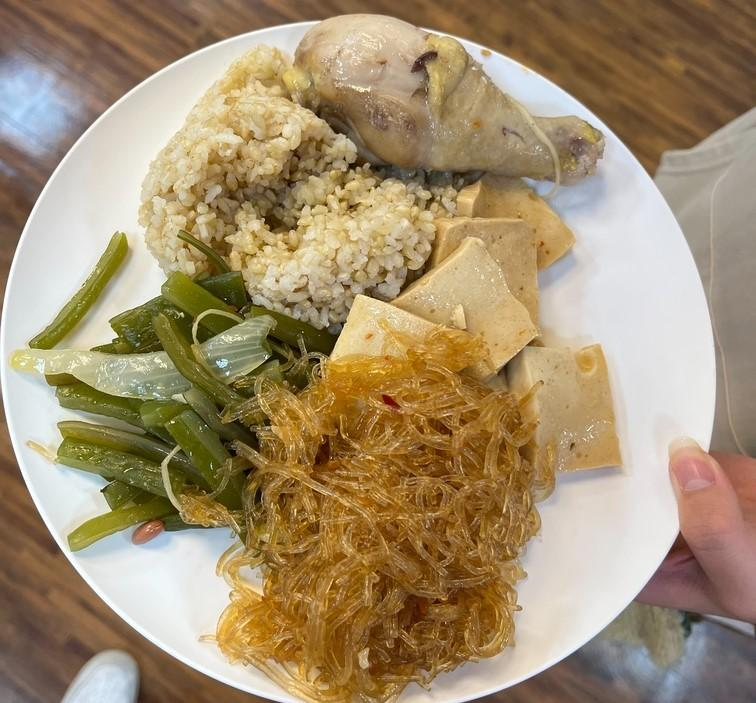big fried chicken leg: (10, 10, 722, 701)
box: (140, 57, 452, 325)
braised fish fillet: (234, 346, 537, 701), (23, 226, 322, 548), (330, 185, 622, 485)
braised pork: (302, 14, 606, 187)
